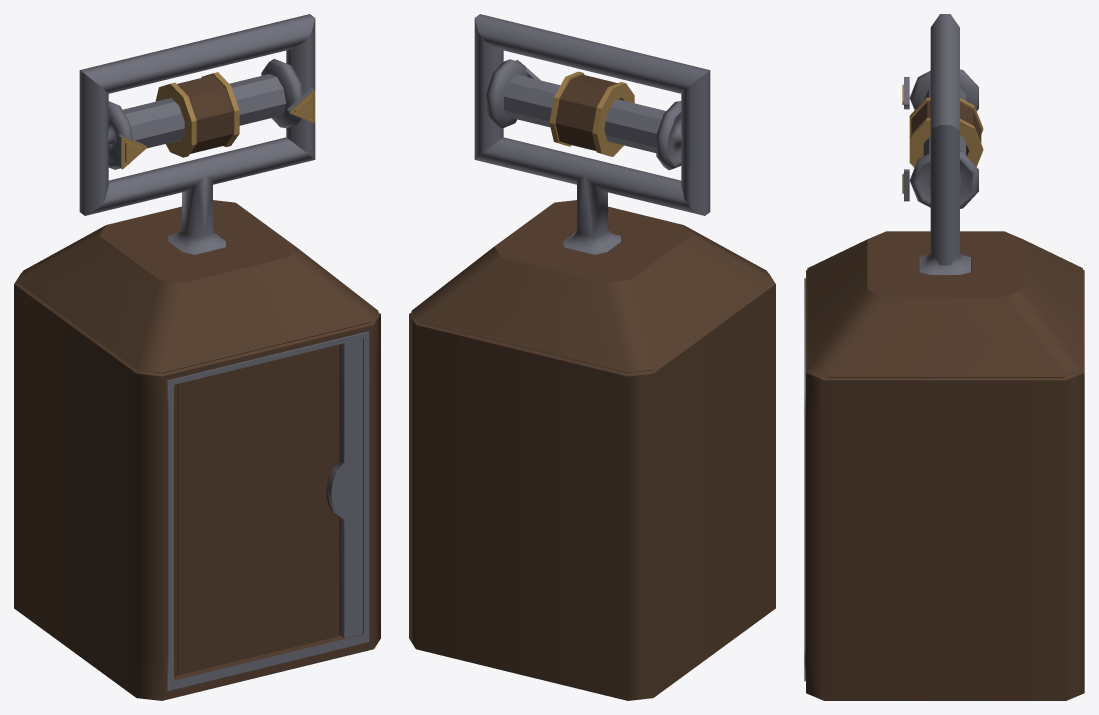
Rendered from Code Slot(PlaceHolder).fbx.
3 views of the same model, side by side, from view 1: azimuth 30°, elevation 25°; view 2: azimuth 150°, elevation 25°; view 3: azimuth 270°, elevation 25° (orthographic).
Visible parts, largest first — view 1: Safe, Safe Door, Slot Middle; view 2: Safe, Slot Middle; view 3: Safe, Slot Middle.
Part boxes in pixels (x1,y1,x2,y2): Safe: [14, 14, 380, 700]; Safe Door: [174, 338, 362, 677]; Slot Middle: [155, 72, 239, 157]; Safe: [409, 14, 775, 700]; Slot Middle: [549, 71, 634, 156]; Safe: [804, 14, 1084, 700]; Slot Middle: [909, 97, 983, 167].
Bounding box in the file's own units: 66.9 × 67.28 × 152.
